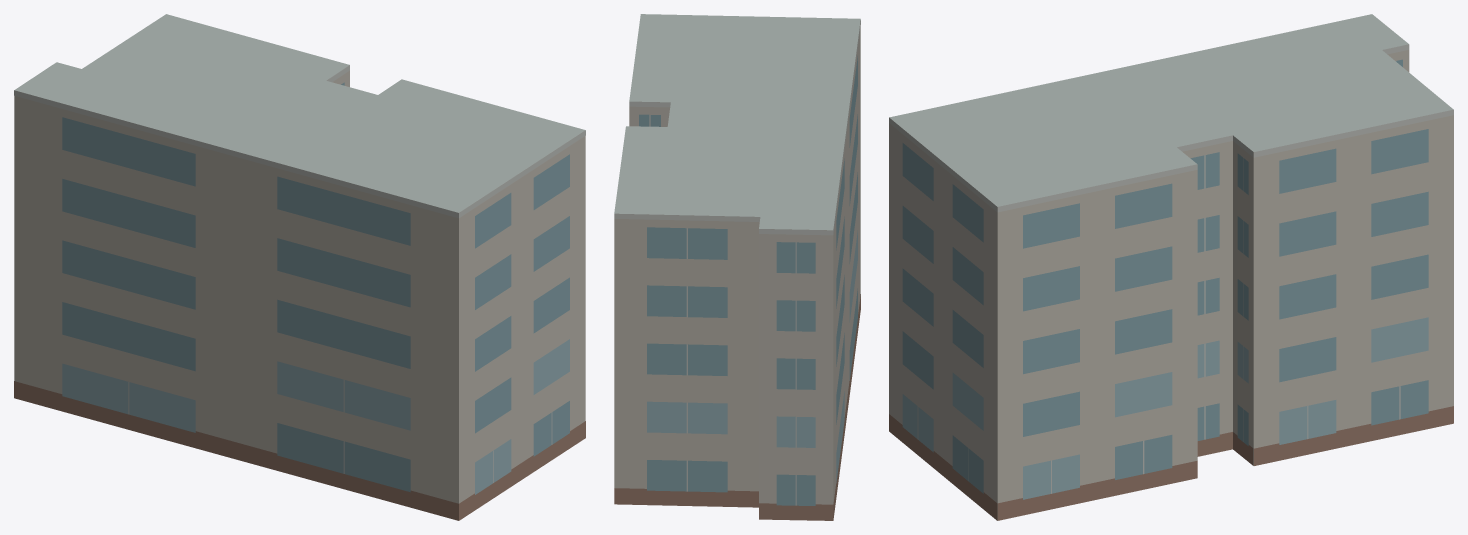
Rendered from survey-upis-32863904.glb.
3 renders of one model, left to right at view 1: azimuth 30°, elevation 25°; view 2: azimuth 150°, elevation 25°; view 3: azimuth 270°, elevation 25°, orthographic. The views are drawn at different scales.
Visible parts, largest first — view 1: survey-upis-32863904.tmp; view 2: survey-upis-32863904.tmp; view 3: survey-upis-32863904.tmp.
Part boxes in pixels (x1=…): survey-upis-32863904.tmp: x1=14, y1=14, x2=585, y2=520; survey-upis-32863904.tmp: x1=614, y1=14, x2=860, y2=520; survey-upis-32863904.tmp: x1=889, y1=14, x2=1453, y2=520.
Size of the model in its own units: 18.19 by 13.8 by 22.51.
